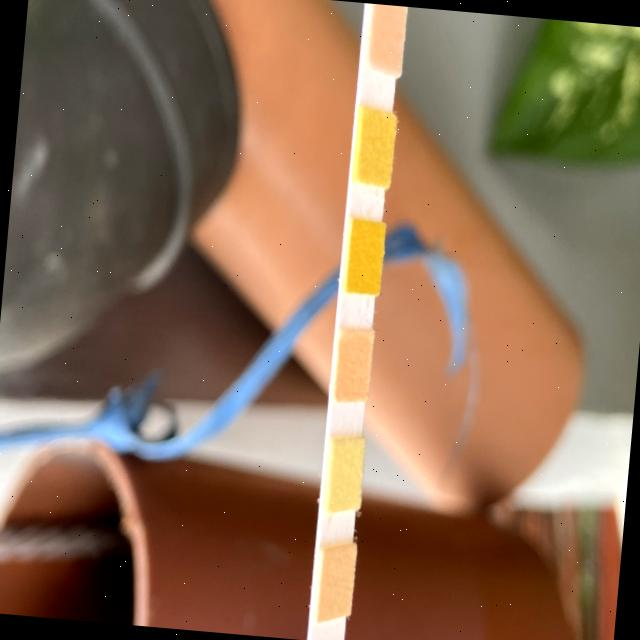Blood: (344, 223, 383, 292)
Ketone: (367, 3, 406, 62)
Protein: (327, 438, 363, 506)
SpGravity: (356, 117, 395, 180)
Urobilinogen: (317, 553, 354, 612)
pH: (333, 332, 372, 401)
